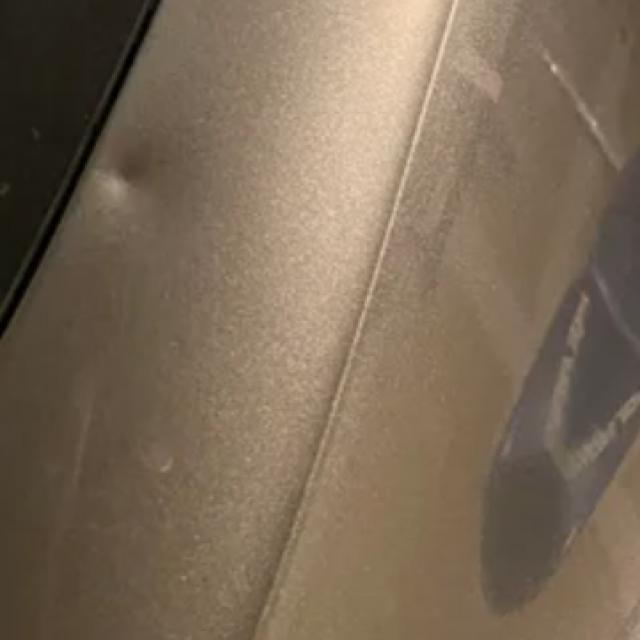dents: (98, 129, 173, 223)
